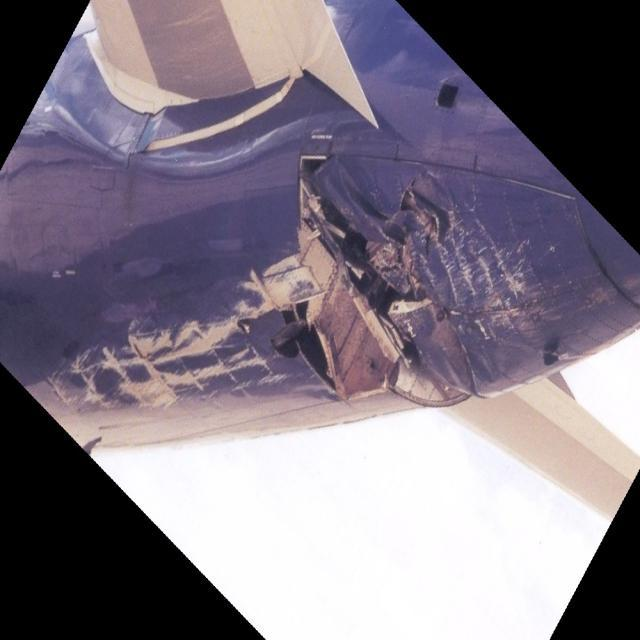crack: (269, 151, 454, 398)
